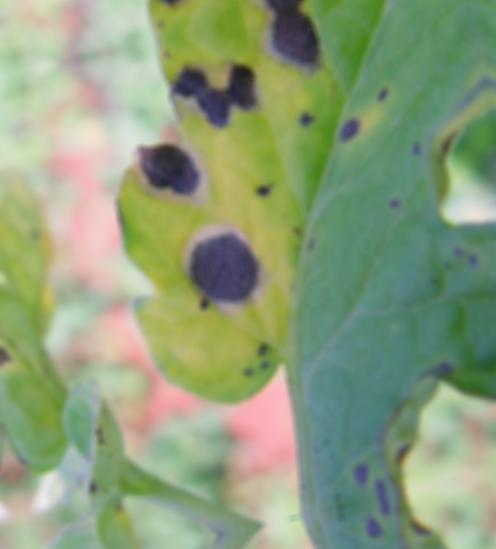Tomato Early blight leaf: (74, 0, 496, 543), (0, 309, 81, 476)
